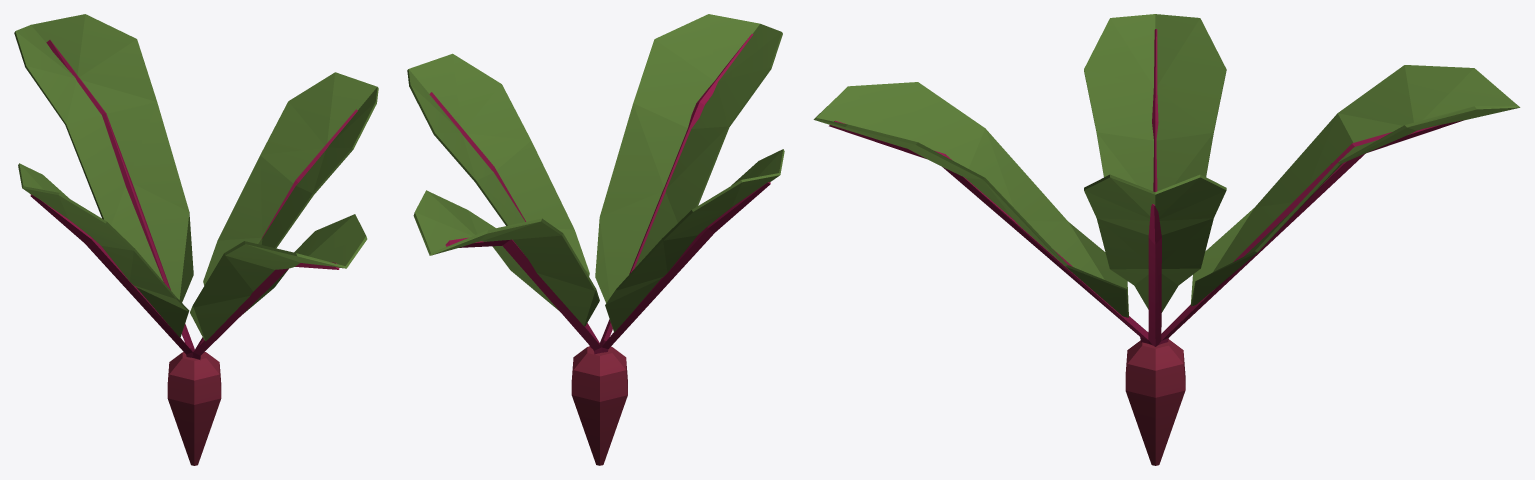
Rendered from Crop_Beetroot_STAGE_2_01.obj.
3 renders of one model, left to right at view 1: azimuth 30°, elevation 25°; view 2: azimuth 150°, elevation 25°; view 3: azimuth 270°, elevation 25°, orthographic. The views are drawn at different scales.
Visible parts, largest first — view 1: Crop_Beetroot_STAGE_2_01; view 2: Crop_Beetroot_STAGE_2_01; view 3: Crop_Beetroot_STAGE_2_01.
Boxes of the visible parts, x1,y1,x2,y2 form: Crop_Beetroot_STAGE_2_01: [14, 14, 378, 465]; Crop_Beetroot_STAGE_2_01: [407, 14, 784, 465]; Crop_Beetroot_STAGE_2_01: [813, 14, 1520, 465].
Size of the model in its own units: 0.3456 by 0.3144 by 0.5321.
1 material, 1 textured.
